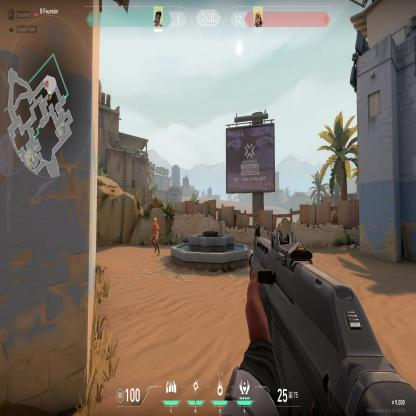enemy: (150, 216, 160, 257)
